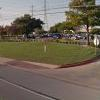Tree: (56, 1, 100, 29)
